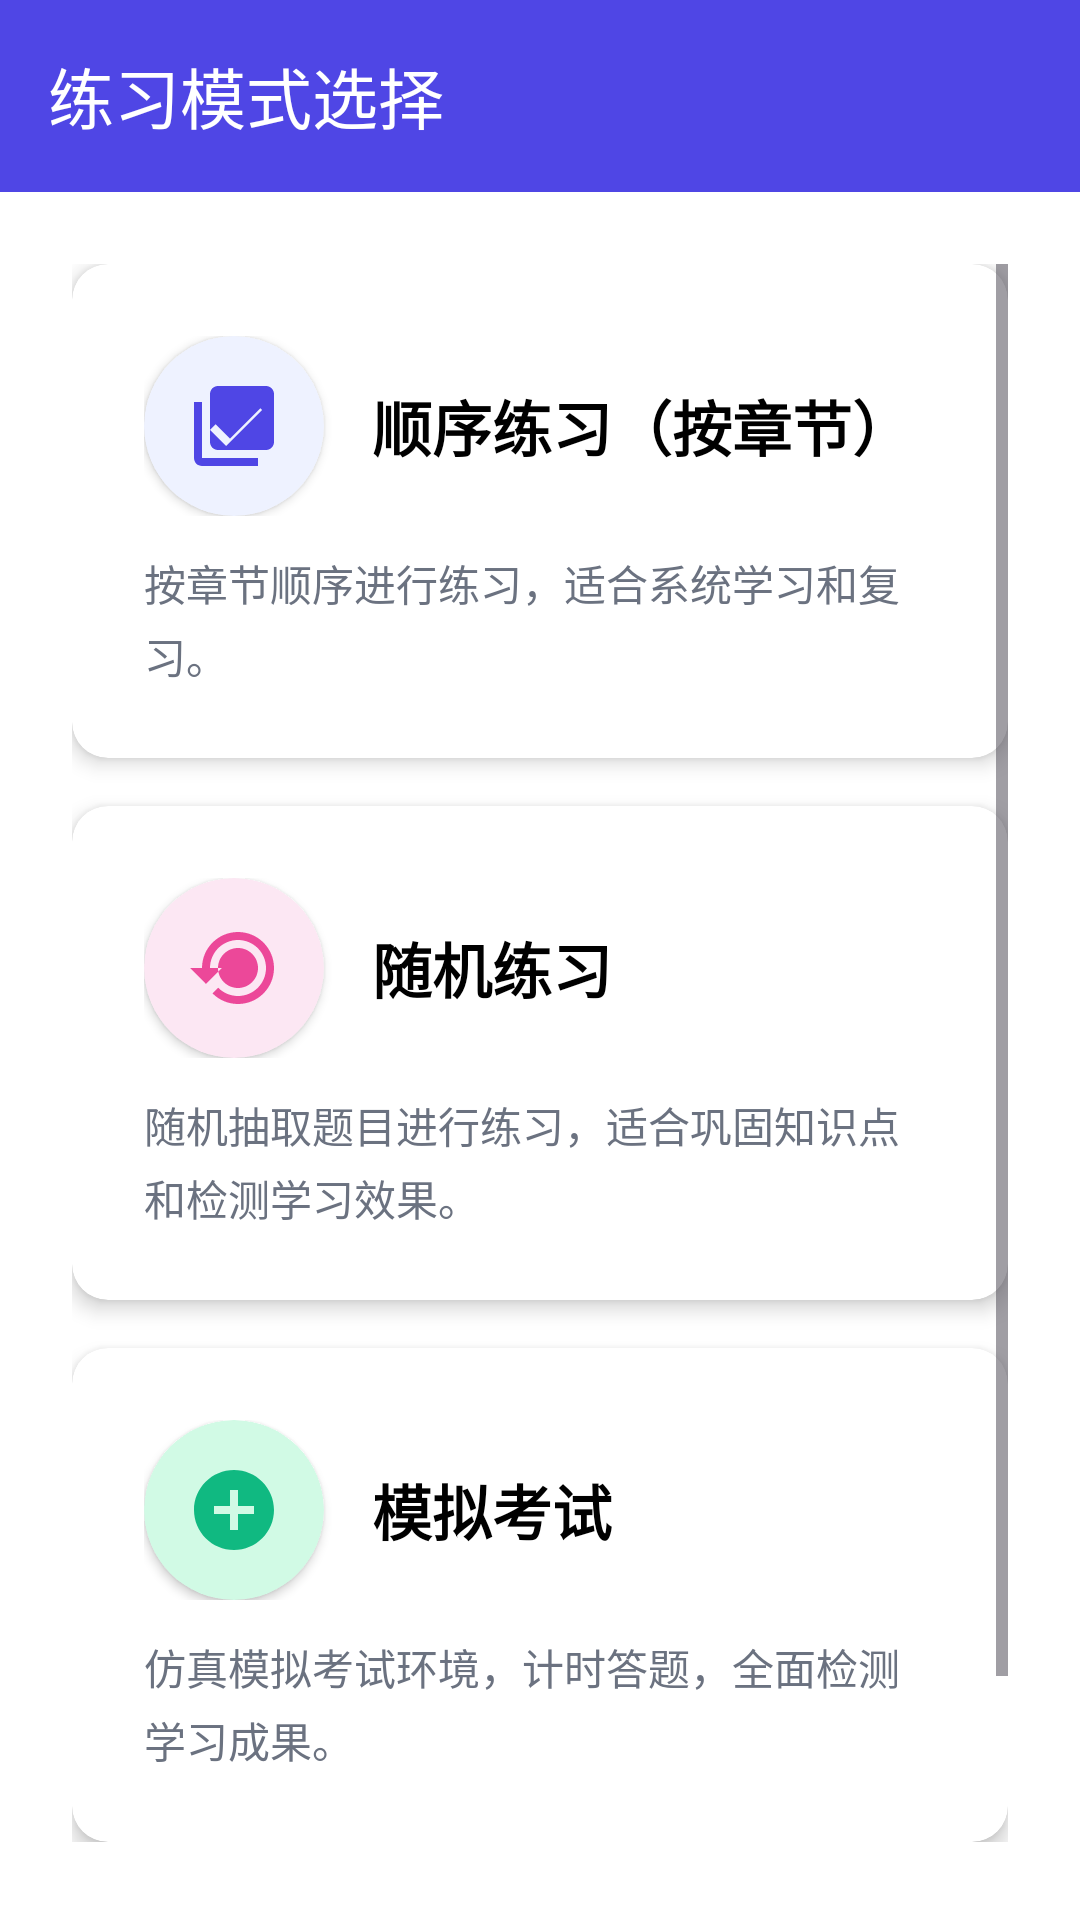

Icons on this 1080 x 1920 Android screen, each with the point to tap as point (x, y):
add circle: point (234, 1510)
history: point (232, 968)
